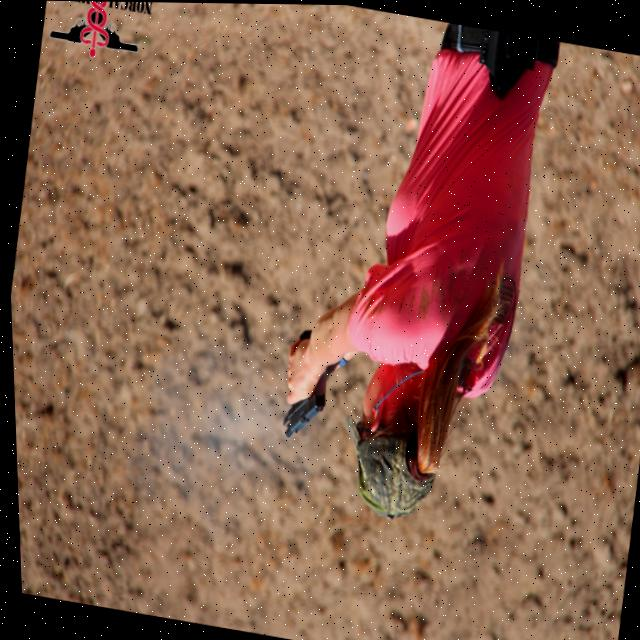pistol: (277, 379, 326, 443)
